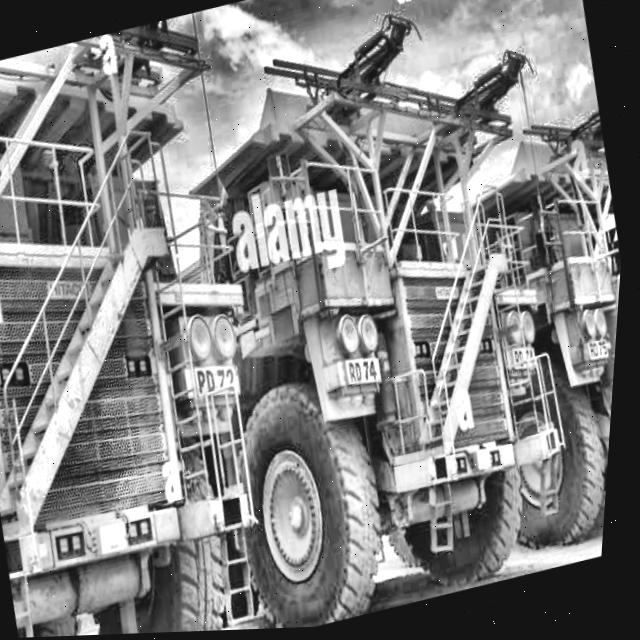dump_truck: (165, 0, 578, 634), (0, 11, 321, 640), (463, 68, 635, 574)
